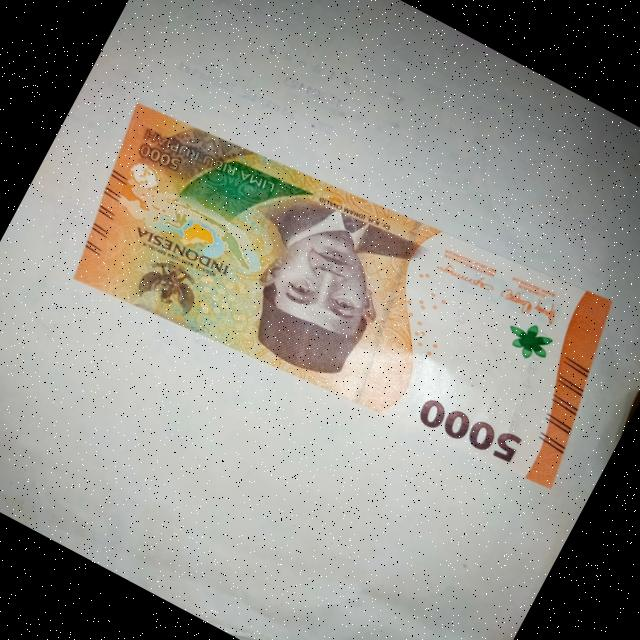5K: (29, 48, 640, 539)
